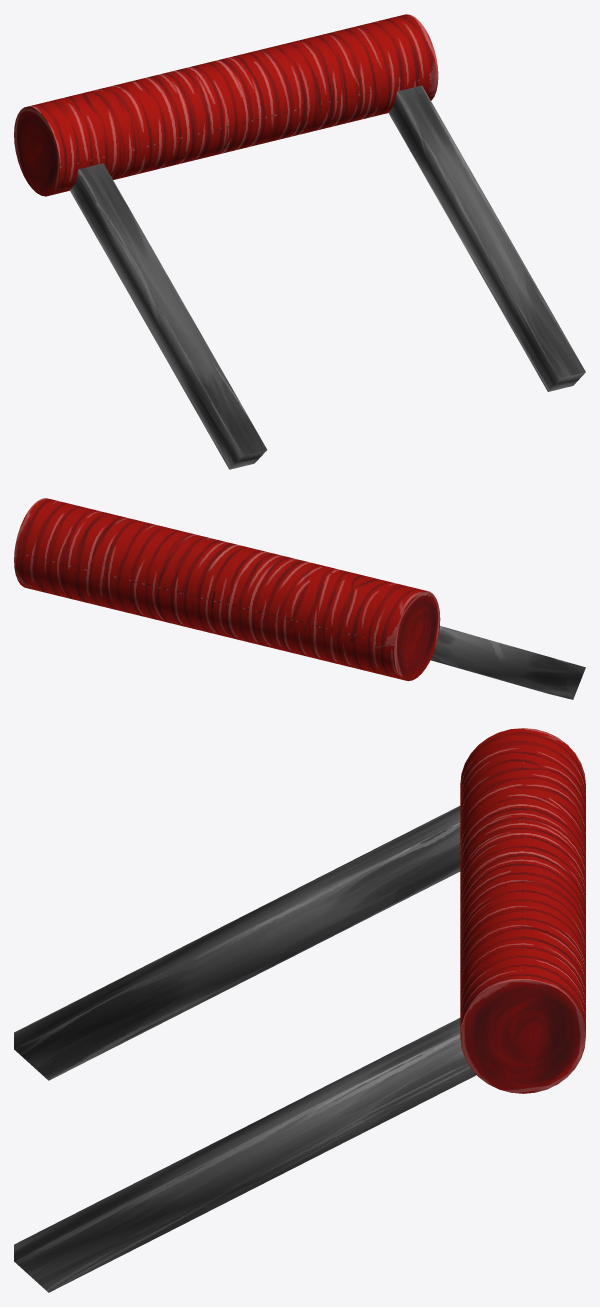
Rendered from Lever.fbx.
3 views of the same model, one above another, from view 1: azimuth 30°, elevation 25°; view 2: azimuth 150°, elevation 25°; view 3: azimuth 270°, elevation 25° (orthographic). The views are drawn at different scales.
Parts seen in each view (by area): view 1: LeverHandle, Lever; view 2: LeverHandle, Lever; view 3: Lever, LeverHandle.
Part boxes in pixels (box(x1,y1,x2,y2)): LeverHandle: box(14, 14, 438, 196); Lever: box(69, 85, 585, 469); LeverHandle: box(14, 498, 440, 681); Lever: box(431, 626, 585, 699); Lever: box(14, 806, 476, 1292); LeverHandle: box(460, 728, 585, 1093).
Size of the model in its own units: 26.26 by 15.74 by 25.21.
